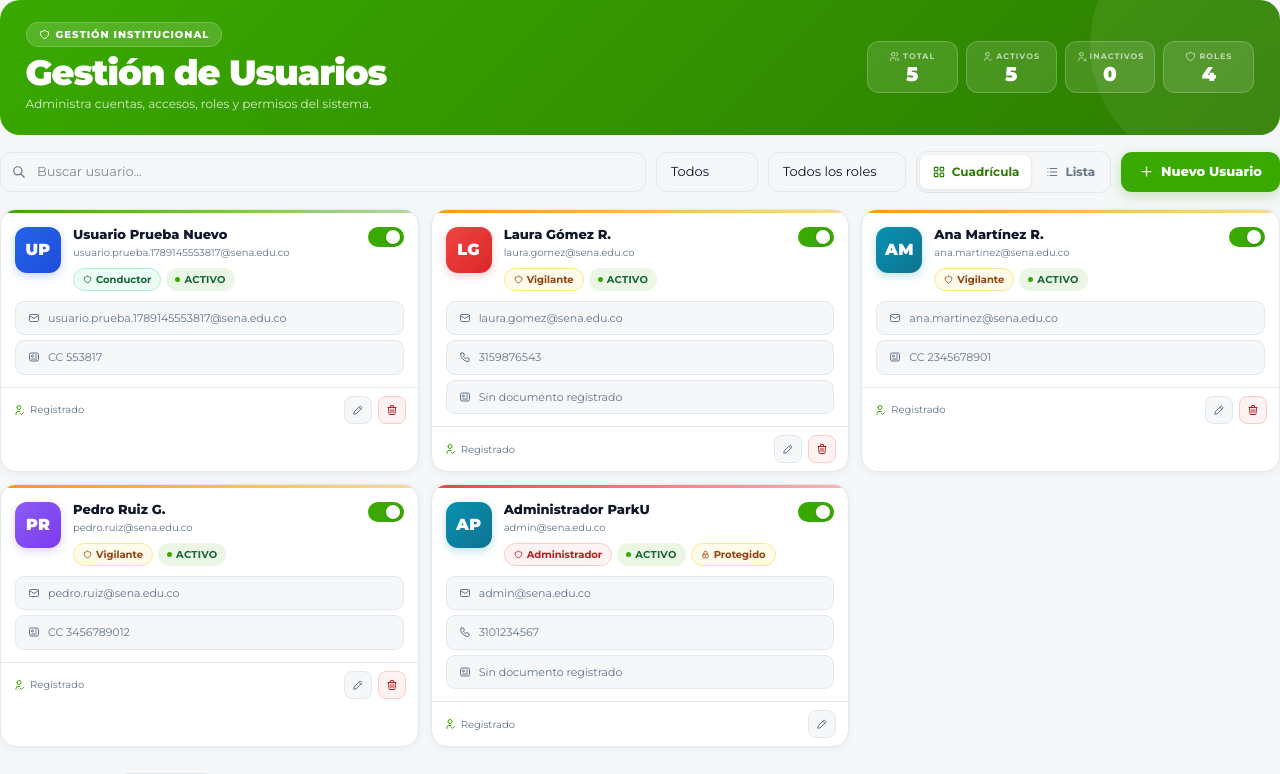
Scenario: Usuarios › no deja crear el usuario si la confirmación de contraseña no coincide
The width and height of the screenshot is (1280, 774).
Expected: the text "Ana Martínez R." is shown, [934,226,1044,242]
Click the button "Nuevo Usuario" at point(1200, 172), box [1121,152,1279,192]
(page scrolled)
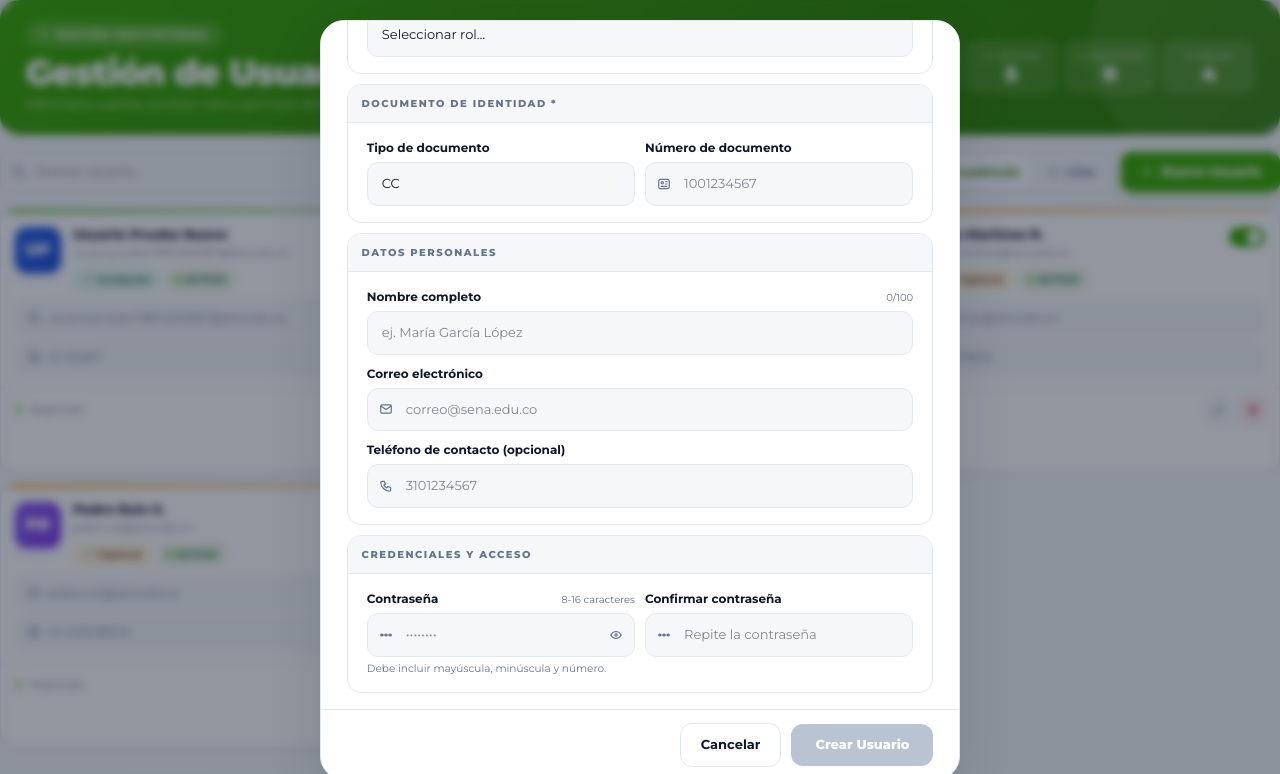
Type "Pass1234" into the password field with placeholder "••••••••" at point(501, 635), box [367,613,635,656]
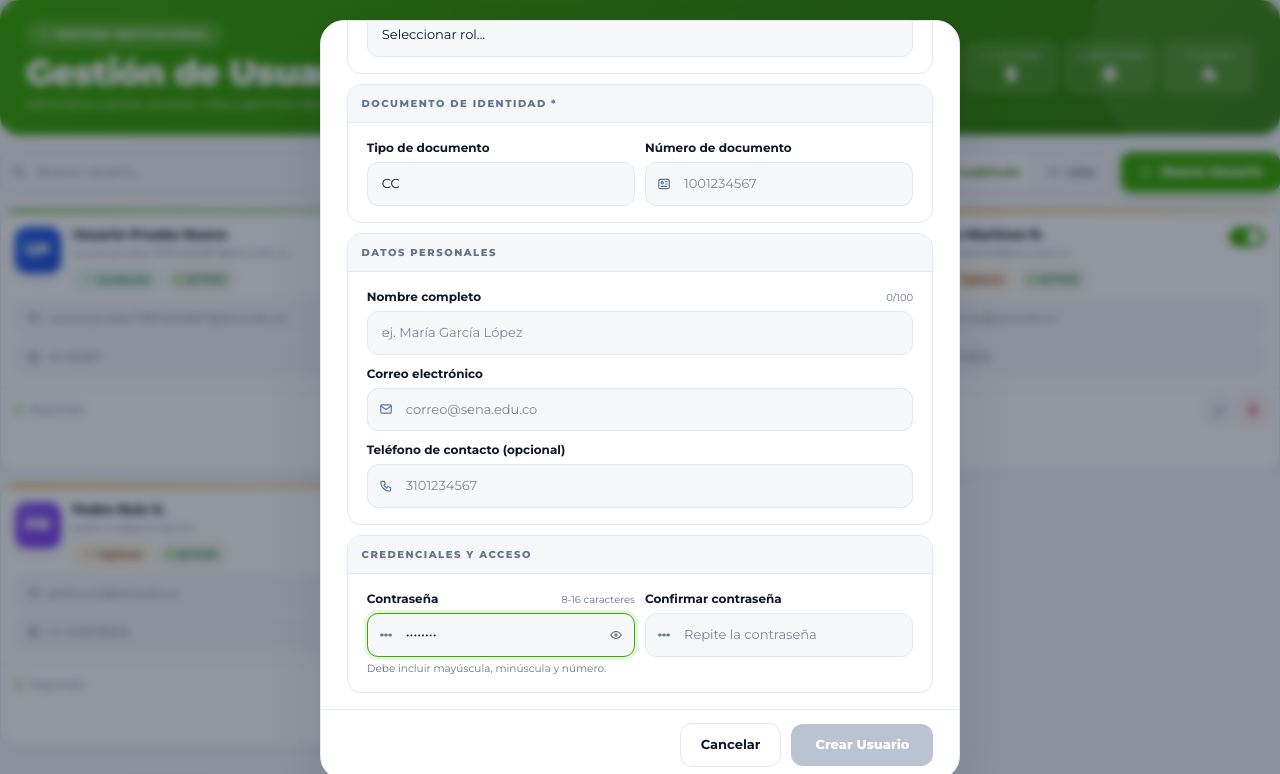
Type "Pass9999" into the password field named "Confirmar contraseña" at point(779, 635), box [645,613,913,656]
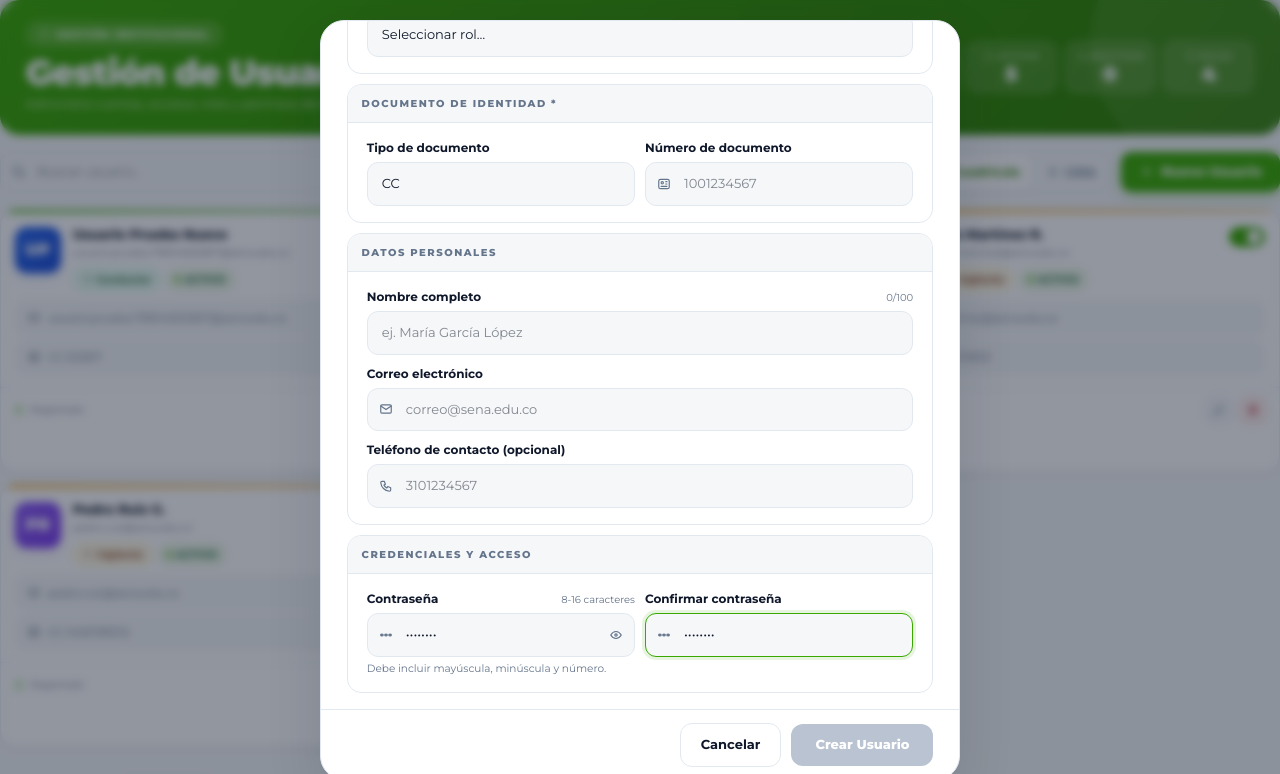
Press Tab
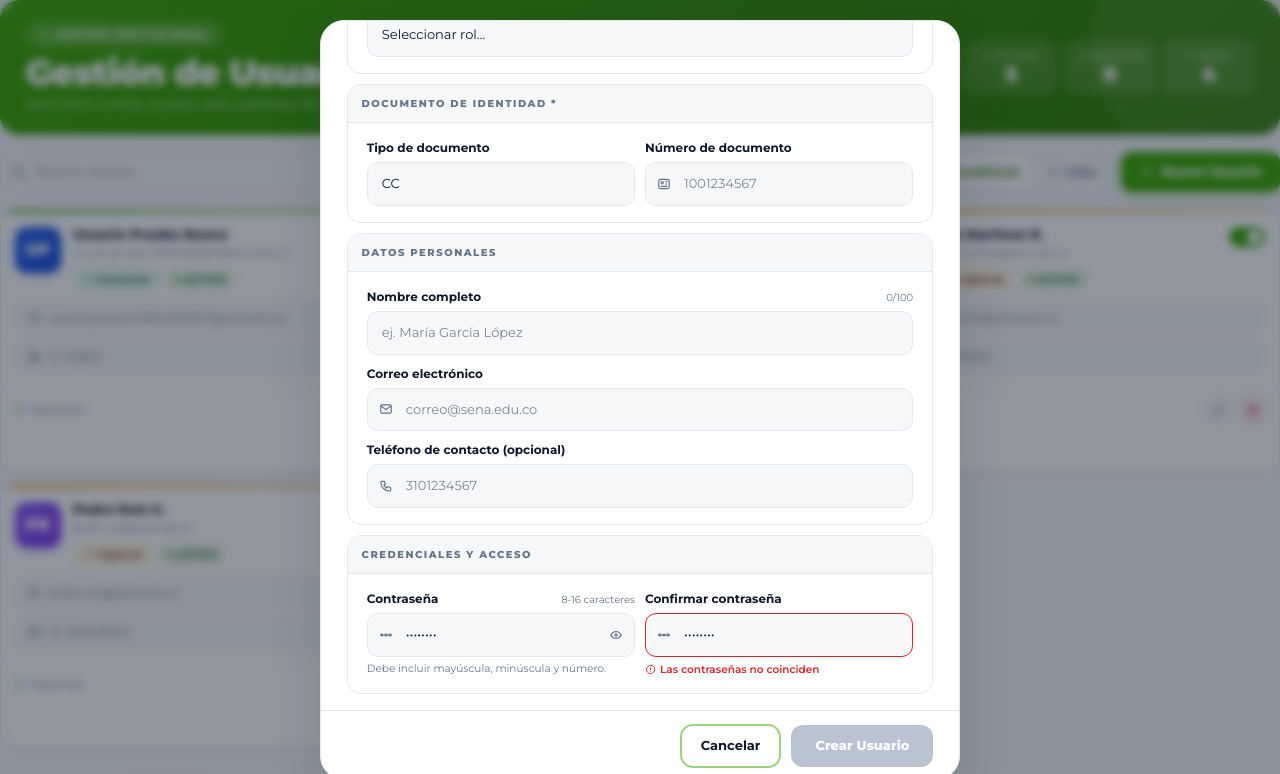
Now the text "Las contraseñas no coinciden" is shown, box [645,662,820,676]
Y el envío no prospera: el modal sigue abierto.
Click the button "Crear Usuario" at point(862, 746), box [791,725,933,767]
(page scrolled)
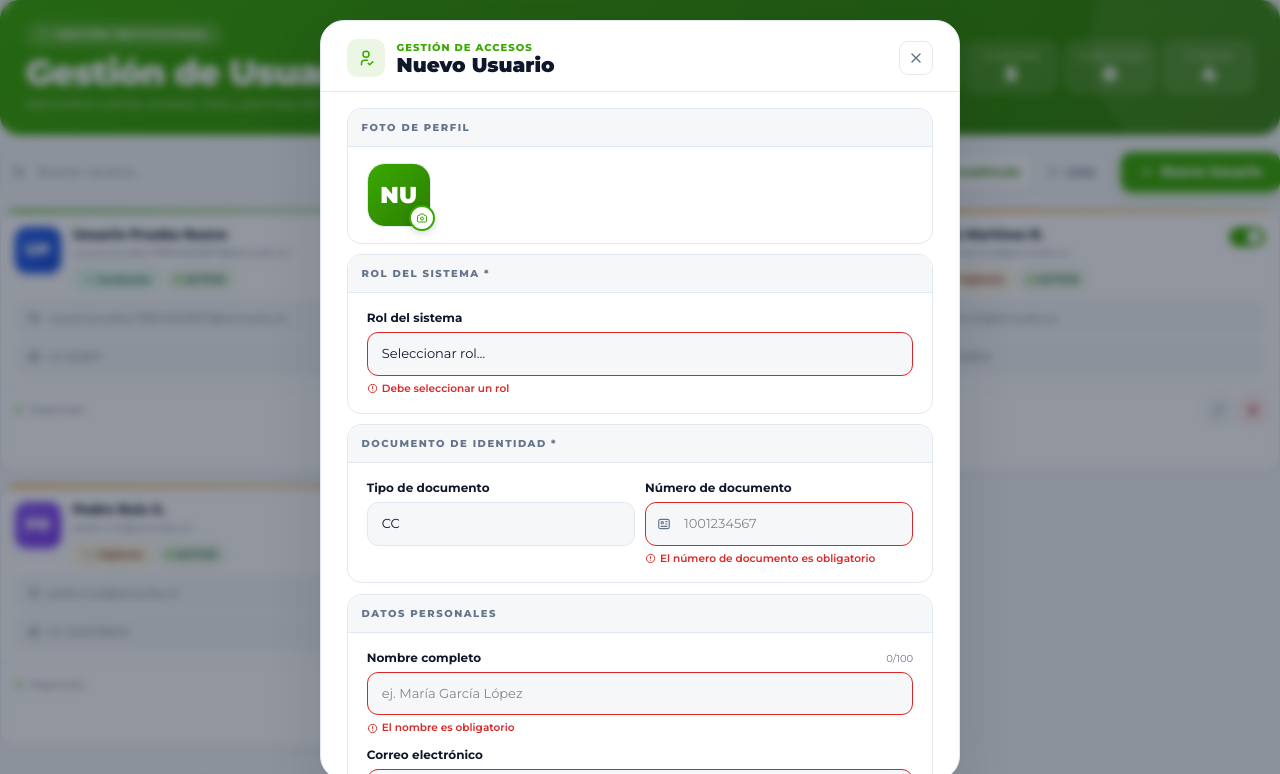
Now the heading "Nuevo Usuario" is shown, box [397,55,555,75]
